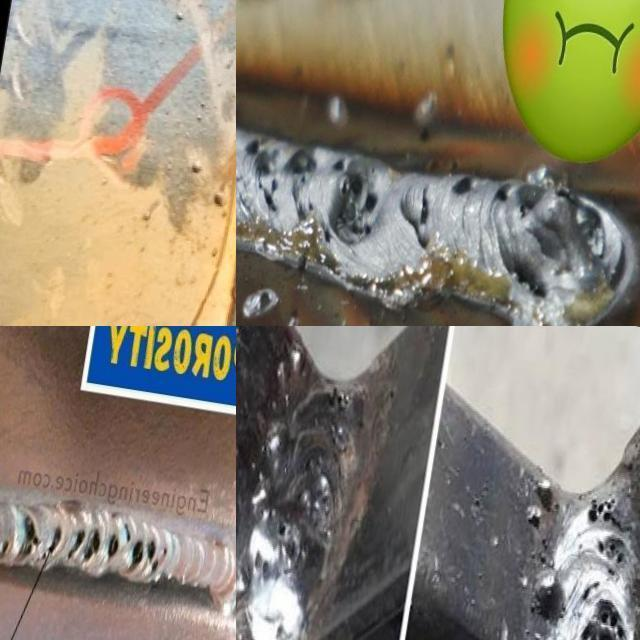defect: (316, 156, 383, 248), (244, 137, 322, 215), (550, 185, 608, 262), (584, 494, 628, 570), (579, 591, 633, 640), (121, 522, 161, 575), (415, 185, 442, 252), (509, 259, 550, 300), (277, 516, 303, 575), (19, 512, 41, 560), (38, 522, 64, 562), (449, 168, 476, 202), (252, 544, 273, 586), (490, 183, 512, 210), (83, 529, 100, 562), (67, 529, 85, 560), (515, 198, 537, 222), (107, 532, 120, 561), (0, 538, 11, 558), (162, 547, 167, 557)
